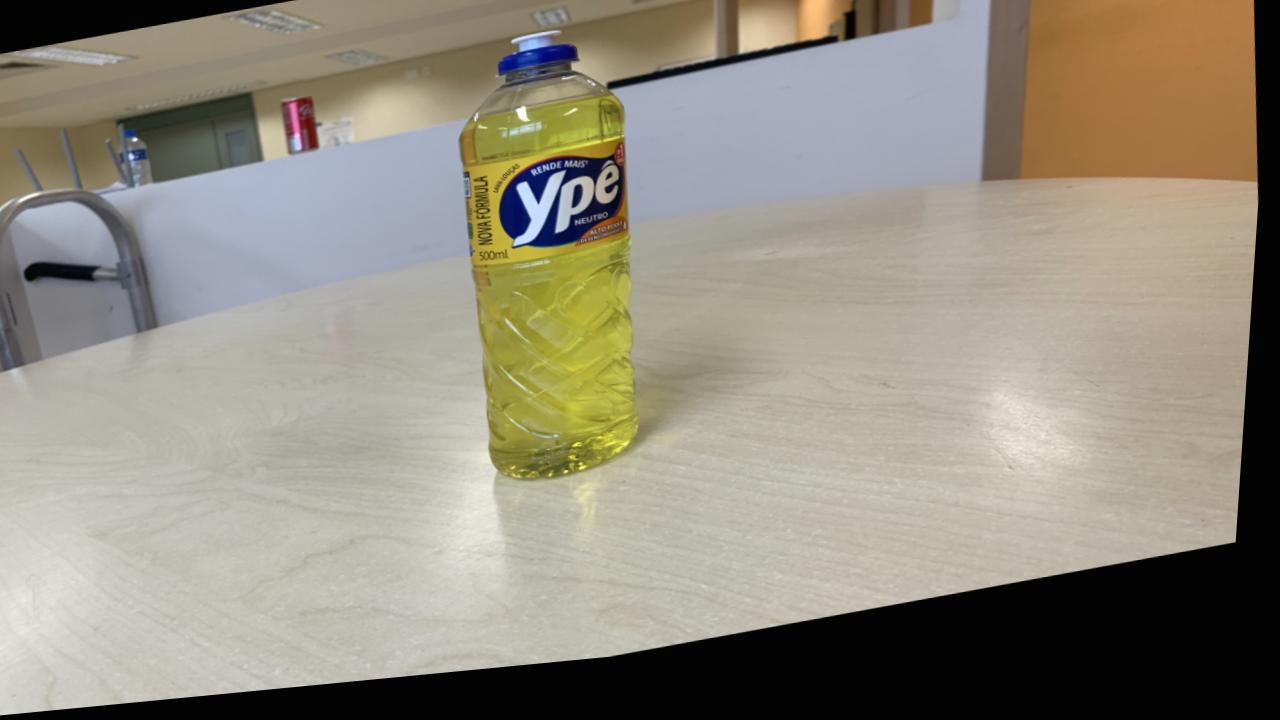Detergent-Cleanup_Items: (460, 44, 649, 495)
